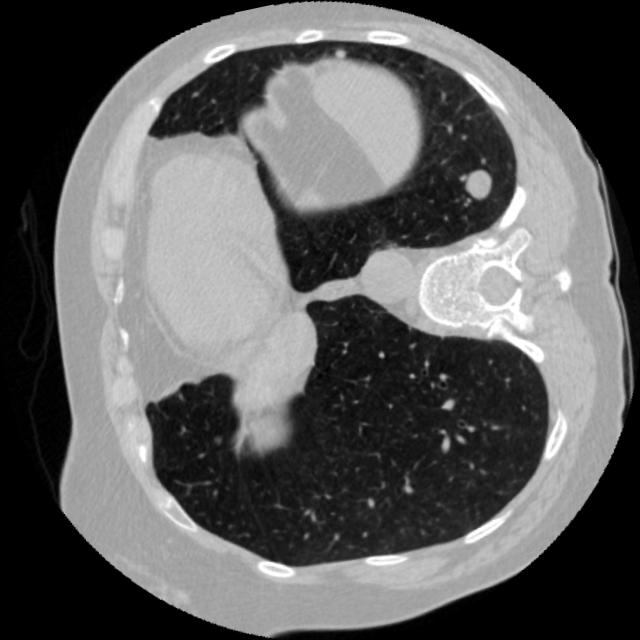nodule: (326, 41, 352, 67)
